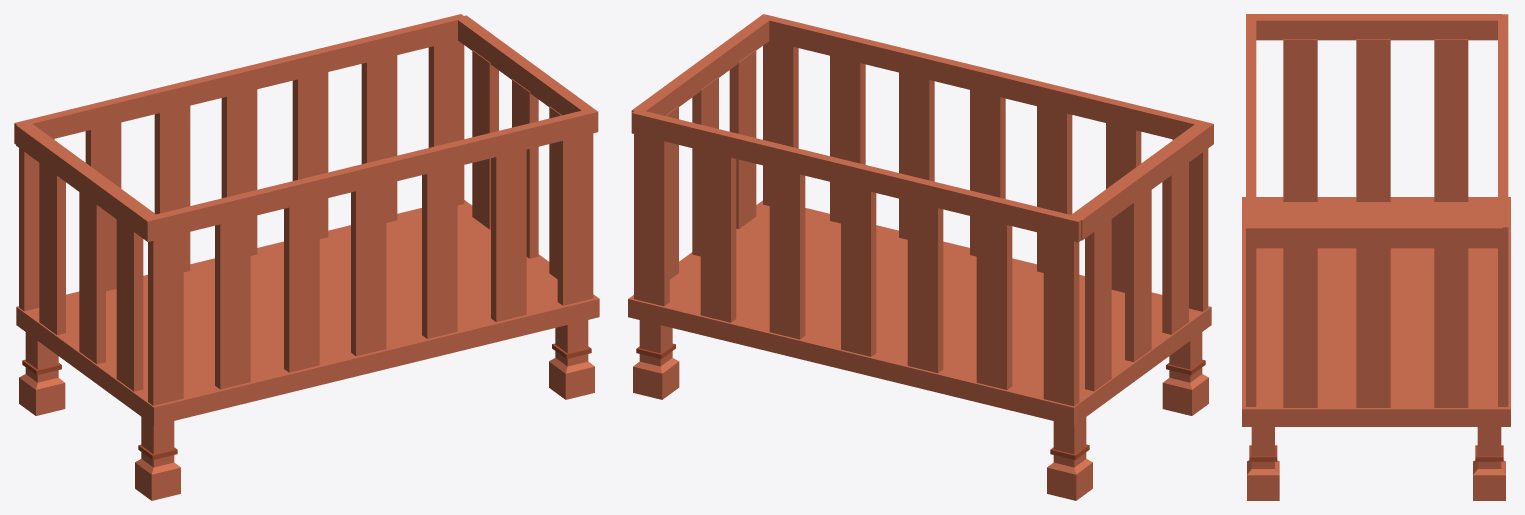
The model's file is 婴儿床.fbx.
The picture shows the model from 3 angles, left to right: view 1: azimuth 30°, elevation 25°; view 2: azimuth 150°, elevation 25°; view 3: azimuth 270°, elevation 25°; orthographic projection. The views are drawn at different scales.
Parts seen in each view (by area): view 1: porch_floorCenter (×25), column_westernLarge (×3); view 2: porch_floorCenter (×25), column_westernLarge (×3); view 3: porch_floorCenter (×13), column_westernLarge (×2).
Part boxes in pixels (x1,y1,x2,y2): porch_floorCenter (×25): [14, 14, 599, 425]; column_westernLarge (×3): [19, 320, 594, 500]; porch_floorCenter (×25): [628, 14, 1213, 425]; column_westernLarge (×3): [633, 320, 1208, 500]; porch_floorCenter (×13): [1242, 14, 1510, 426]; column_westernLarge (×2): [1247, 427, 1505, 500].
Bounding box in the file's own units: 21.55 × 12.83 × 11.41.
